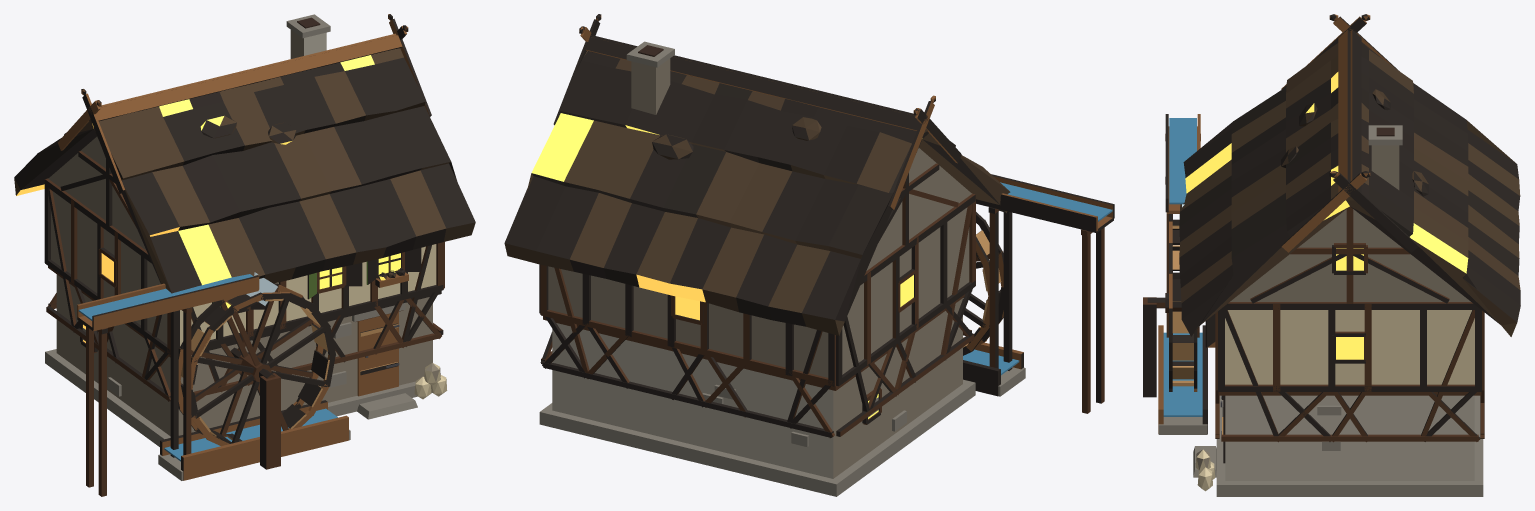
The model's file is Dorf_Muehle_Beschaedigt.fbx.
3 renders of one model, left to right at view 1: azimuth 30°, elevation 25°; view 2: azimuth 150°, elevation 25°; view 3: azimuth 270°, elevation 25°, orthographic. The views are drawn at different scales.
Parts seen in each view (by area): view 1: Dorf_Muehle_Beschaedigt, Muehlrad_Beschaedigt; view 2: Dorf_Muehle_Beschaedigt, Muehlrad_Beschaedigt; view 3: Dorf_Muehle_Beschaedigt, Muehlrad_Beschaedigt.
Part boxes in pixels (x1=…): Dorf_Muehle_Beschaedigt: x1=14, y1=14, x2=475, y2=496; Muehlrad_Beschaedigt: x1=178, y1=283, x2=335, y2=445; Dorf_Muehle_Beschaedigt: x1=504, y1=14, x2=1114, y2=496; Muehlrad_Beschaedigt: x1=963, y1=212, x2=1003, y2=355; Dorf_Muehle_Beschaedigt: x1=1143, y1=14, x2=1520, y2=496; Muehlrad_Beschaedigt: x1=1165, y1=214, x2=1197, y2=391.
Bounding box in the file's own units: 10.71 × 8.42 × 8.49.
